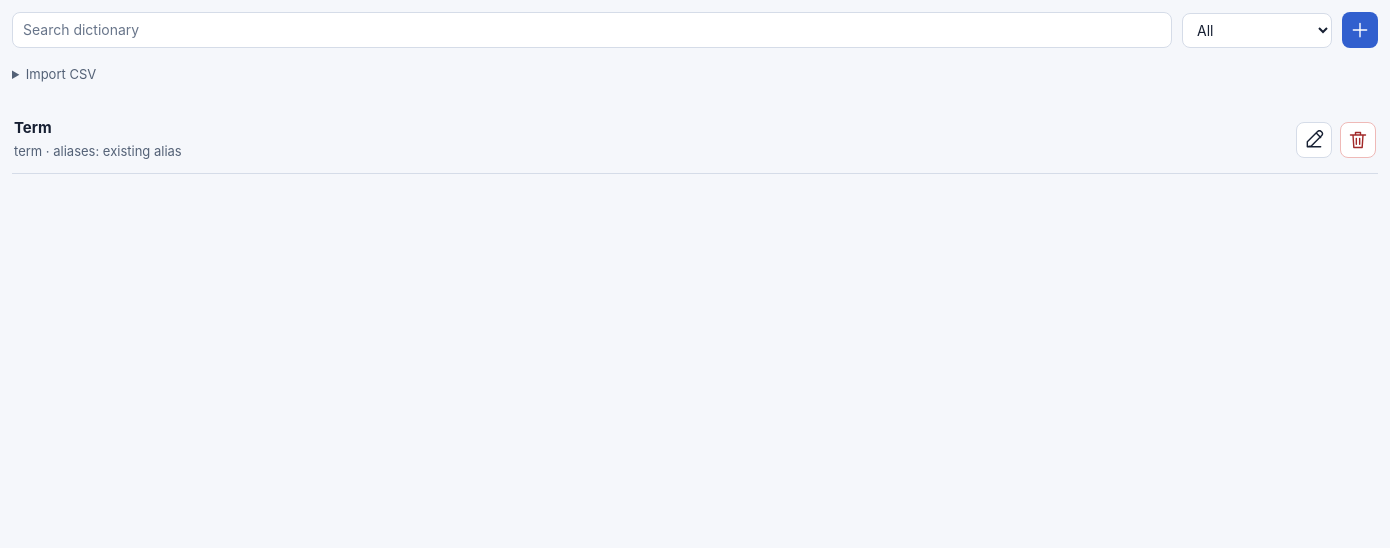
Scenario: alias formatting help remains available when editing a populated field
This screenshot has width=1390, height=548.
Click the button named "Edit:".
click(1314, 140)  # box [1296,122,1332,158]
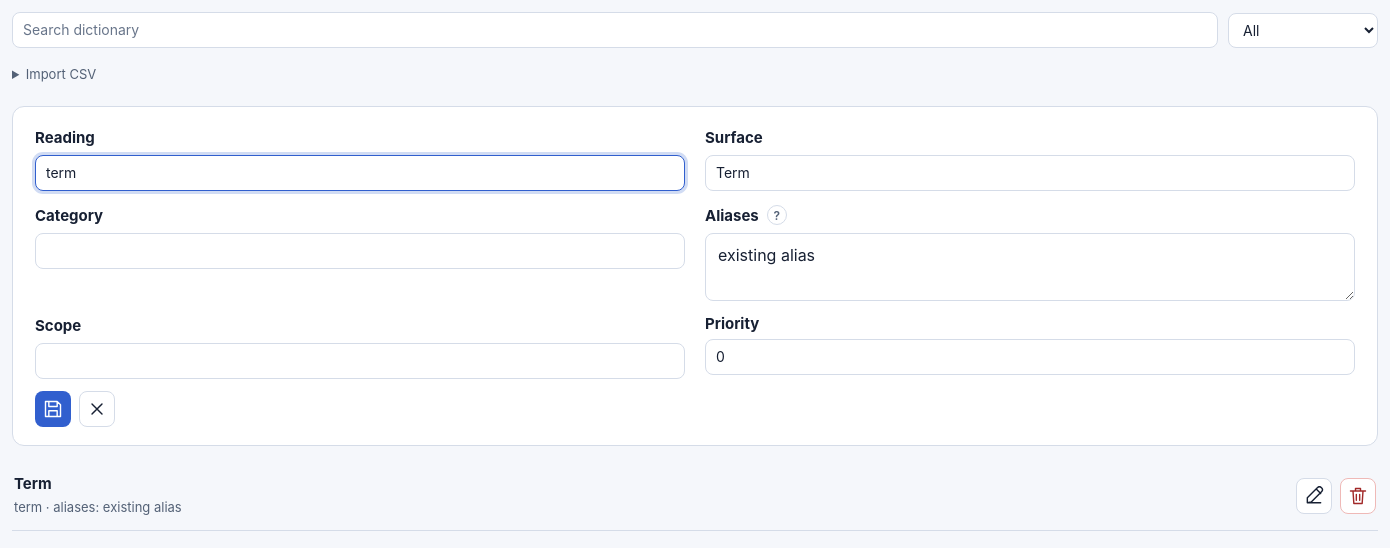
Check: the text box named "Aliases" holds "existing alias", box [705,233,1355,301]
Click the button named "Help: Aliases".
click(777, 215)  # box [767,205,787,225]
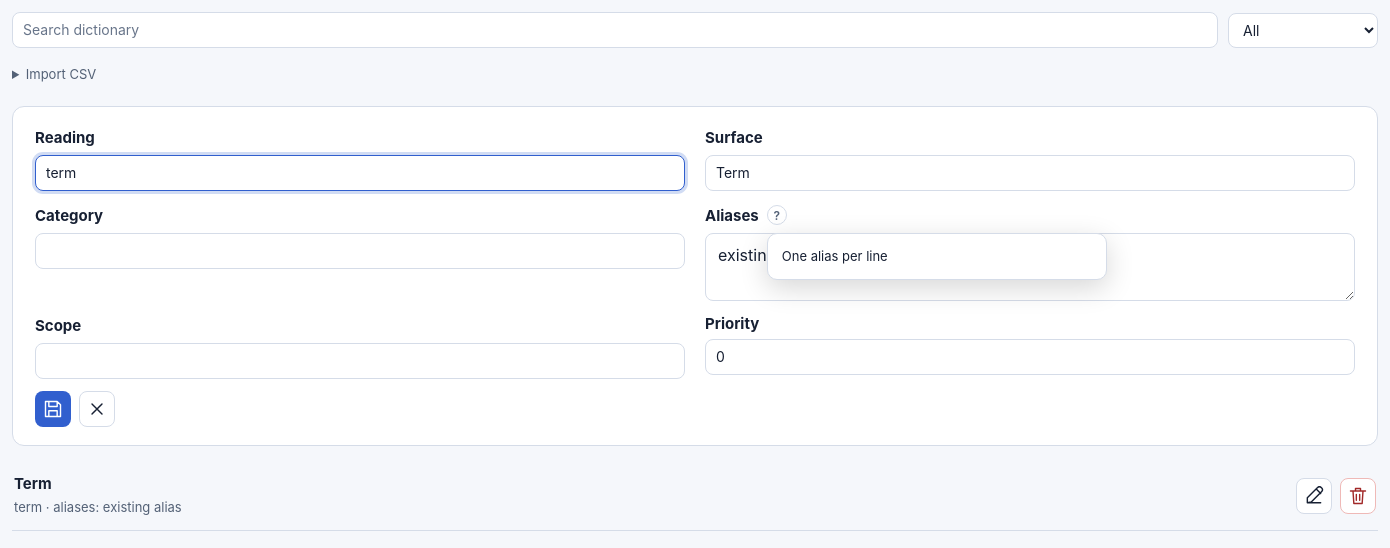
Check: the tooltip reads "One alias per line", box [782,248,888,264]
